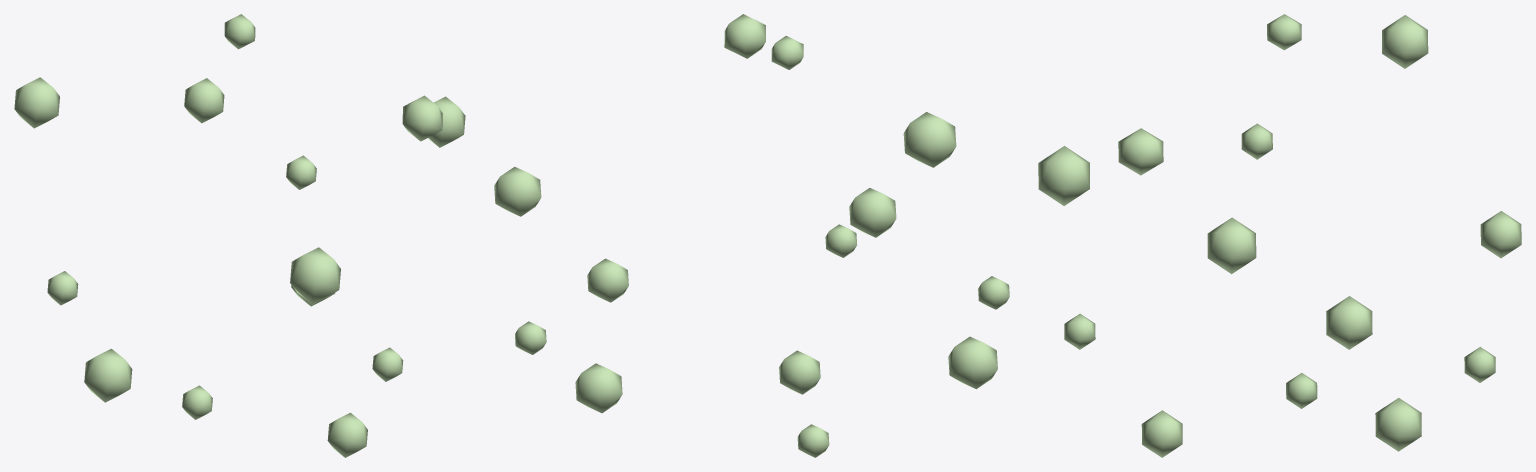
3 views of the same model, side by side, from view 1: azimuth 30°, elevation 25°; view 2: azimuth 150°, elevation 25°; view 3: azimuth 270°, elevation 25° (orthographic).
Visible parts, largest first — view 1: Sphere427, Sphere430, Sphere424, Sphere425, Sphere429, Sphere432, Sphere428, Sphere434, Sphere426, Sphere431, Sphere433, Sphere436; view 2: Sphere427, Sphere430, Sphere428, Sphere435, Sphere424, Sphere425, Sphere429, Sphere432, Sphere434, Sphere433, Sphere426, Sphere436 (+1 smaller); view 3: Sphere427, Sphere430, Sphere435, Sphere428, Sphere424, Sphere425, Sphere429, Sphere432, Sphere434, Sphere431, Sphere436, Sphere426 (+1 smaller).
Boxes of the visible parts, x1,y1,x2,y2 form: Sphere427: (290,247,340,304); Sphere430: (84,348,132,402); Sphere424: (14,77,59,128); Sphere425: (402,95,442,141); Sphere429: (184,78,224,123); Sphere432: (327,412,367,457); Sphere428: (428,96,465,147); Sphere434: (224,14,255,49); Sphere426: (47,271,78,305); Sphere431: (372,347,403,381); Sphere433: (182,385,212,419); Sphere436: (286,155,316,189); Sphere427: (903,112,956,167); Sphere430: (948,336,997,389); Sphere428: (494,166,541,216); Sphere435: (575,363,622,413); Sphere424: (849,188,896,237); Sphere425: (724,14,765,58); Sphere429: (587,258,628,302); Sphere432: (779,350,820,394); Sphere434: (771,36,803,69); Sphere433: (797,424,829,457); Sphere426: (978,276,1009,309); Sphere436: (515,321,546,354); Sphere427: (1038,146,1089,205); Sphere430: (1207,217,1256,274); Sphere435: (1375,398,1421,451); Sphere428: (1326,296,1372,349); Sphere424: (1382,15,1428,68); Sphere425: (1118,128,1163,175); Sphere429: (1480,211,1521,258); Sphere432: (1141,410,1182,457); Sphere434: (1267,14,1301,50); Sphere431: (1064,313,1095,349); Sphere436: (1464,347,1495,382); Sphere426: (1241,123,1272,159).
Bounding box in the file's own units: 6.39 × 5.33 × 5.66.
